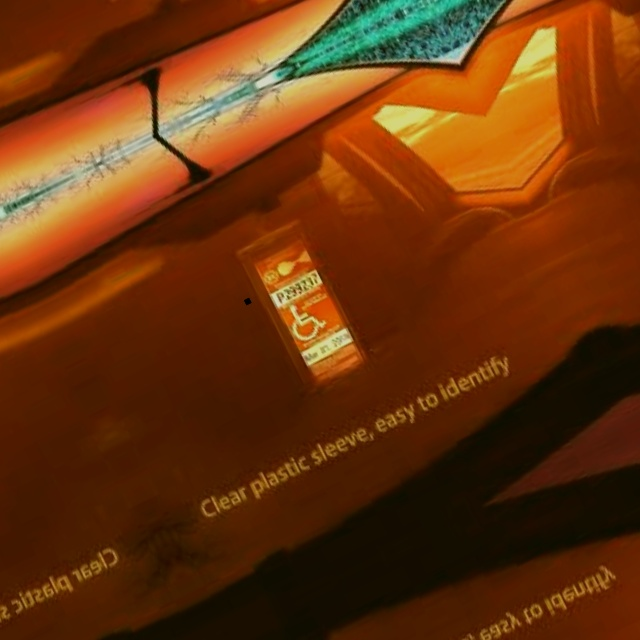ISA: (280, 294, 330, 346)
